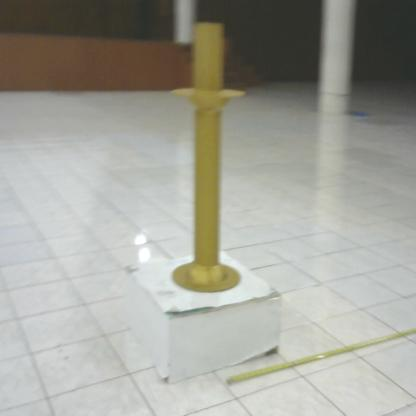pole: (165, 14, 253, 298)
